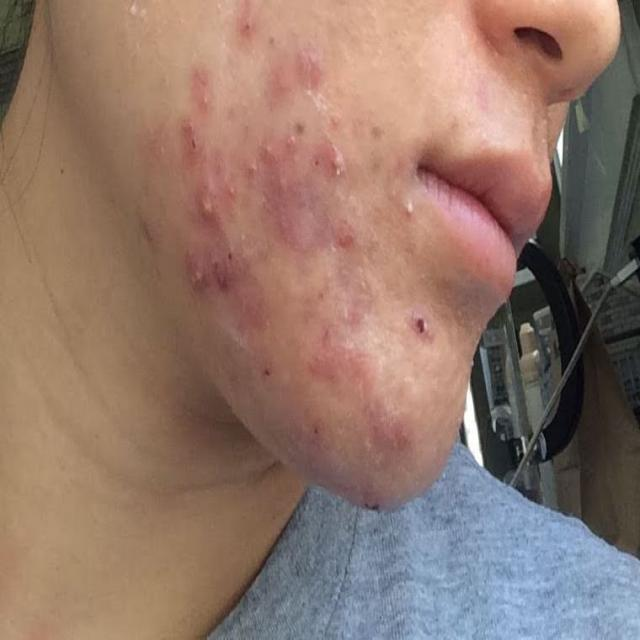Acne: (242, 121, 375, 322), (302, 323, 421, 484), (180, 71, 240, 315), (261, 42, 334, 97), (389, 115, 410, 218), (408, 308, 446, 364), (232, 10, 272, 62)
